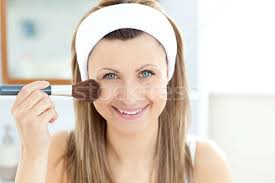white_female: (84, 52, 158, 137)
